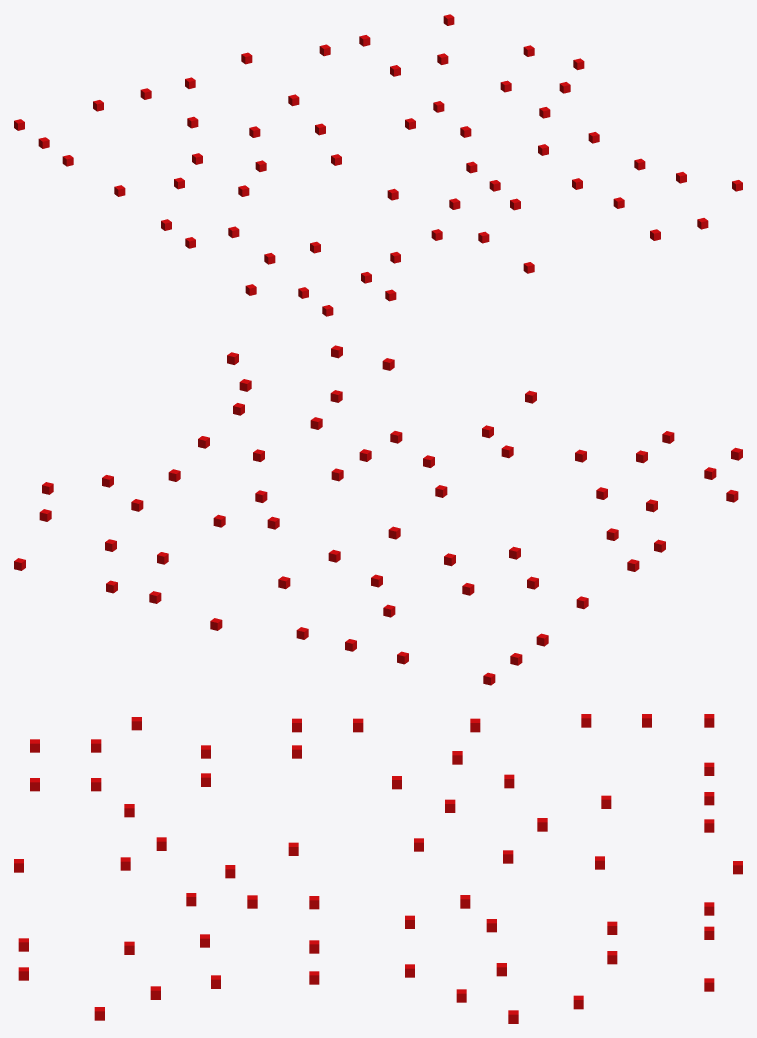
The model's file is Cube_Loca.glb.
The picture shows the model from 3 angles, top to bottom: view 1: azimuth 30°, elevation 25°; view 2: azimuth 150°, elevation 25°; view 3: azimuth 270°, elevation 25°; orthographic projection. The views are drawn at different scales.
Size of the model in its own units: 28.53 by 0.4057 by 29.22.
